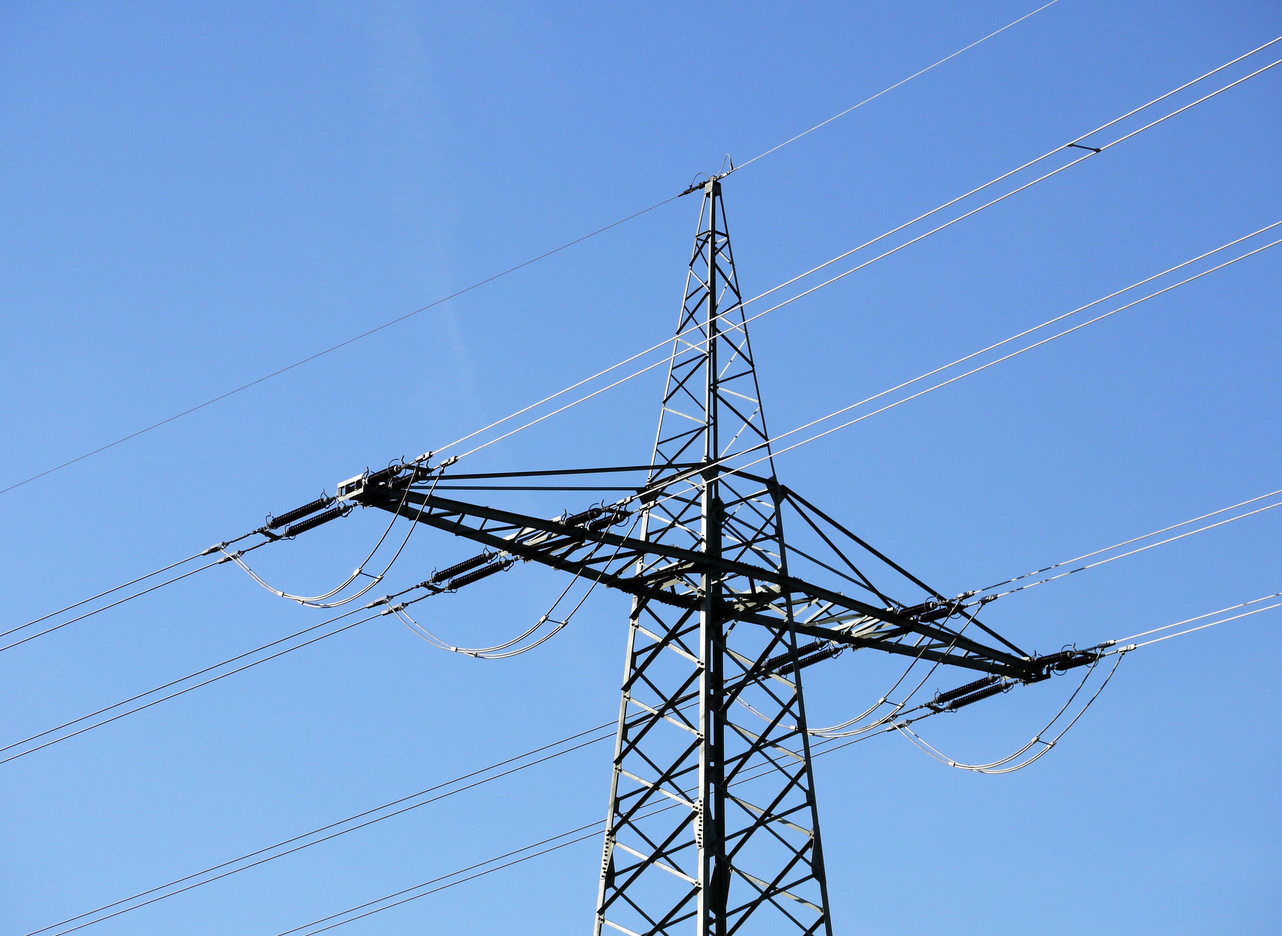insulator: (426, 550, 515, 598), (753, 632, 844, 678), (920, 676, 1019, 718), (263, 501, 349, 536)
